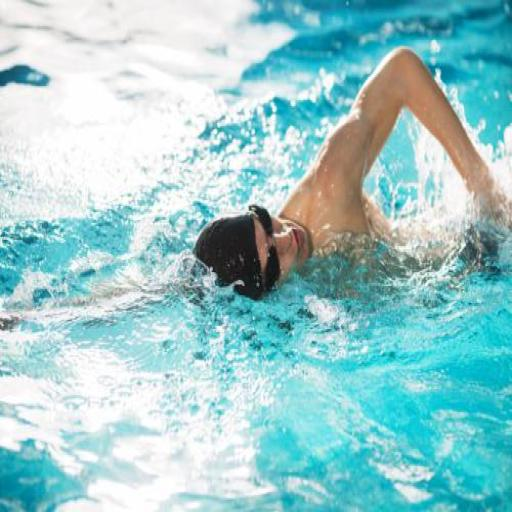swimming: (189, 43, 511, 306)
